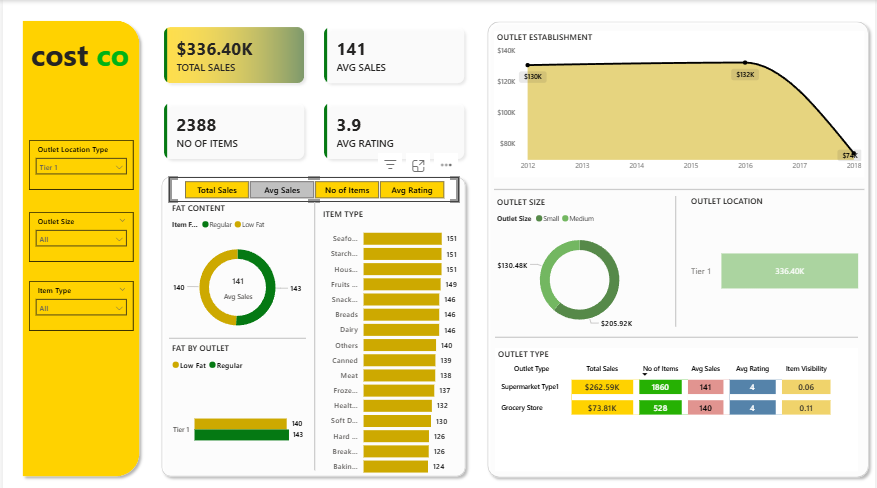

The page's visual inventory and layout, read from the dashboard file:
{"tool":"powerbi","page":{"name":"Page 1","canvas":[1400,800],"ordinal":0},"visuals":[{"type":"shape","box":[22.5,24.1,205.6,750.2],"z":0},{"type":"textbox","box":[32.1,49.8,183.1,75.5],"z":1000},{"type":"cardVisual","fields":{"Data":["Costco Grocery Data.Total Sales","Costco Grocery Data.Avg Sales","Costco Grocery Data.No of Items","Costco Grocery Data.Avg Rating"]},"box":[230,14.3,540,270],"z":2000},{"type":"shape","box":[245.8,274.7,506,499.6],"z":3000},{"type":"donutChart","title":"FAT CONTENT","fields":{"Y":["Costco Grocery Data.Total Sales"],"Category":["Costco Grocery Data.Item Fat Content"]},"box":[267.1,324.3,220,230],"z":4000},{"type":"slicer","fields":{"Values":["Metrics.Metrics"]},"box":[267.1,284.3,465.7,40],"z":5000},{"type":"card","fields":{"Values":["Costco Grocery Data.Total Sales"]},"box":[338.6,432.9,77.1,58.6],"z":6000},{"type":"clusteredBarChart","title":"FAT BY OUTLET","fields":{"Y":["Costco Grocery Data.Total Sales"],"Category":["Costco Grocery Data.Outlet Location Type"],"Series":["Costco Grocery Data.Item Fat Content"]},"box":[267.1,550,220,230],"z":7000},{"type":"shape","box":[267.1,528.6,220,30],"z":8000},{"type":"shape","box":[497.1,324.3,8.6,431.4],"z":9000},{"type":"barChart","title":"ITEM TYPE","fields":{"Y":["Costco Grocery Data.Total Sales"],"Category":["Costco Grocery Data.Item Type"]},"box":[508.6,334.3,227.1,440],"z":10000},{"type":"shape","box":[770,25,630,750],"z":10001},{"type":"lineChart","title":"OUTLET ESTABLISHMENT","fields":{"Category":["Costco Grocery Data.Outlet Establishment Year"],"Y":["Costco Grocery Data.Total Sales"]},"box":[788.3,50,595,235],"z":10002},{"type":"shape","box":[788.3,285,595,40],"z":10003},{"type":"donutChart","title":"OUTLET SIZE","fields":{"Y":["Costco Grocery Data.Total Sales"],"Category":["Costco Grocery Data.Outlet Size"]},"box":[788.3,315,275,225],"z":10004},{"type":"shape","box":[1073.3,315,15,210],"z":10005},{"type":"funnel","title":"OUTLET LOCATION","fields":{"Category":["Costco Grocery Data.Outlet Location Type"],"Y":["Sum(Costco Grocery Data.Sales)"]},"box":[1100,313.3,283.3,226.7],"z":10006},{"type":"pivotTable","title":"OUTLET TYPE","fields":{"Rows":["Costco Grocery Data.Outlet Type"],"Values":["Costco Grocery Data.Total Sales","Costco Grocery Data.No of Items","Costco Grocery Data.Avg Sales","Costco Grocery Data.Avg Rating","Avg(Costco Grocery Data.Item Visibility)"]},"box":[790,558.3,583.3,198.3],"z":10007},{"type":"shape","box":[790,528.3,583.3,26.7],"z":10008},{"type":"slicer","fields":{"Values":["Costco Grocery Data.Outlet Location Type"]},"box":[41.7,225,168.3,80],"z":10009},{"type":"slicer","fields":{"Values":["Costco Grocery Data.Outlet Size"]},"box":[41.7,340,168.3,80],"z":10010},{"type":"slicer","fields":{"Values":["Costco Grocery Data.Item Type"]},"box":[41.7,451.7,168.3,80],"z":10011}]}

Visuals, with their boxes in screenshot pixels (x1, y1, x2, y2), scaled from the page's 1400x800 canvas onto the 877x488 screenshot:
shape: l=14, t=15, r=143, b=472
textbox: l=20, t=30, r=135, b=76
cardVisual - Costco Grocery Data.Total Sales x Costco Grocery Data.Avg Sales: l=144, t=9, r=482, b=173
shape: l=154, t=168, r=471, b=472
"FAT CONTENT" donutChart: l=167, t=198, r=305, b=338
slicer - Metrics.Metrics: l=167, t=173, r=459, b=198
card - Costco Grocery Data.Total Sales: l=212, t=264, r=260, b=300
"FAT BY OUTLET" clusteredBarChart: l=167, t=336, r=305, b=476
shape: l=167, t=322, r=305, b=341
shape: l=311, t=198, r=317, b=461
"ITEM TYPE" barChart: l=319, t=204, r=461, b=472
shape: l=482, t=15, r=876, b=473
"OUTLET ESTABLISHMENT" lineChart: l=494, t=30, r=867, b=174
shape: l=494, t=174, r=867, b=198
"OUTLET SIZE" donutChart: l=494, t=192, r=666, b=329
shape: l=672, t=192, r=682, b=320
"OUTLET LOCATION" funnel: l=689, t=191, r=867, b=329
"OUTLET TYPE" pivotTable: l=495, t=341, r=860, b=462
shape: l=495, t=322, r=860, b=339
slicer - Costco Grocery Data.Outlet Location Type: l=26, t=137, r=132, b=186
slicer - Costco Grocery Data.Outlet Size: l=26, t=207, r=132, b=256
slicer - Costco Grocery Data.Item Type: l=26, t=276, r=132, b=324
